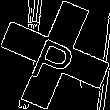P_NE: (28, 24, 82, 86)
